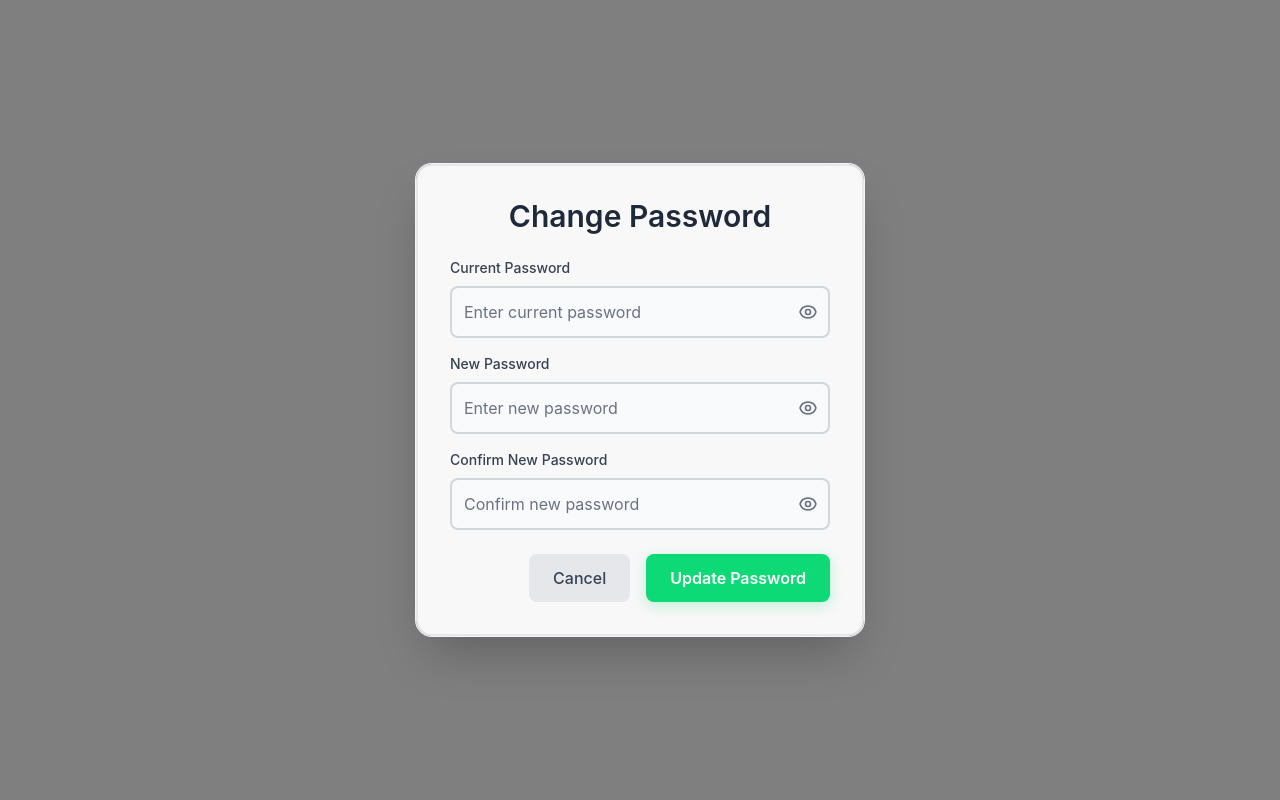
it: ChangePasswordModal › Form Validation › should show error when passwords do not match
Type "currentPass123" into the password field labelled "Current Password". click: [640, 312]
box: [450,286,830,338]
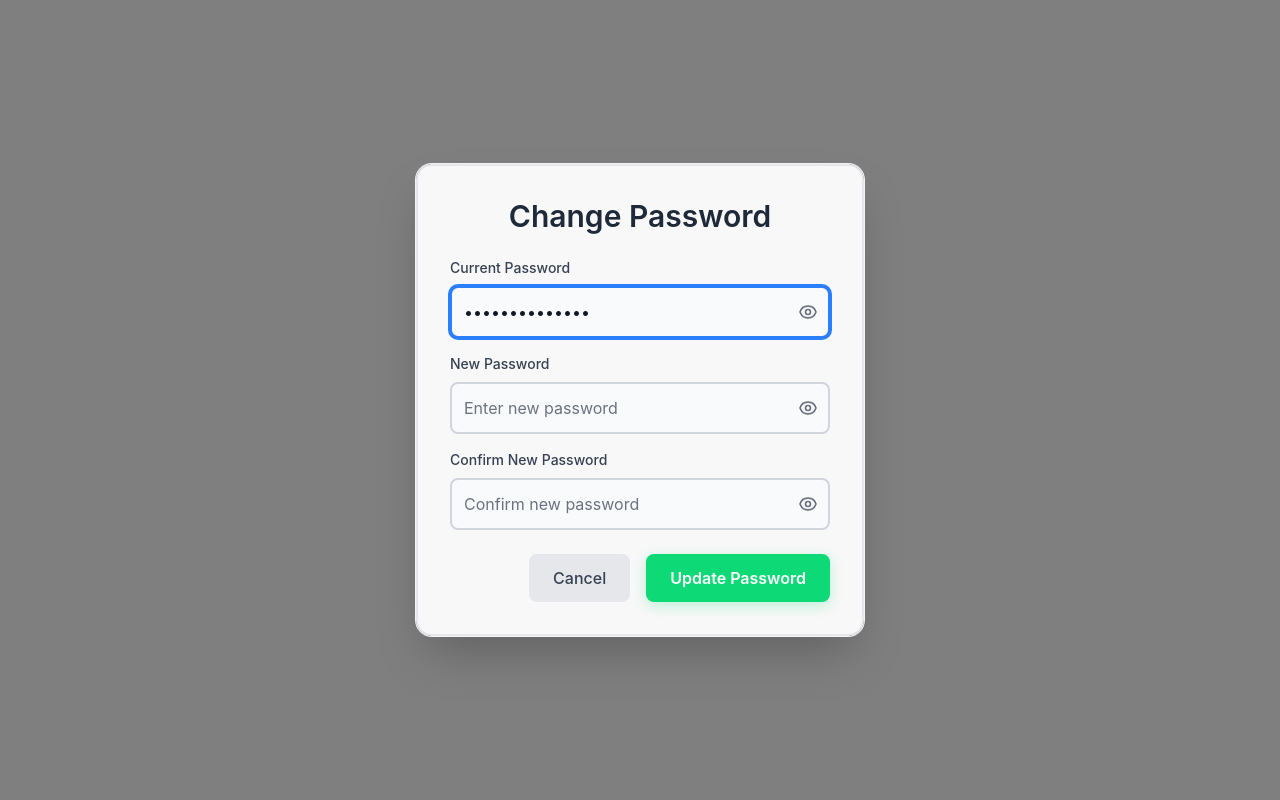
Type "newPassword123" into the password field labelled "New Password". click: [640, 408]
box: [450,382,830,434]
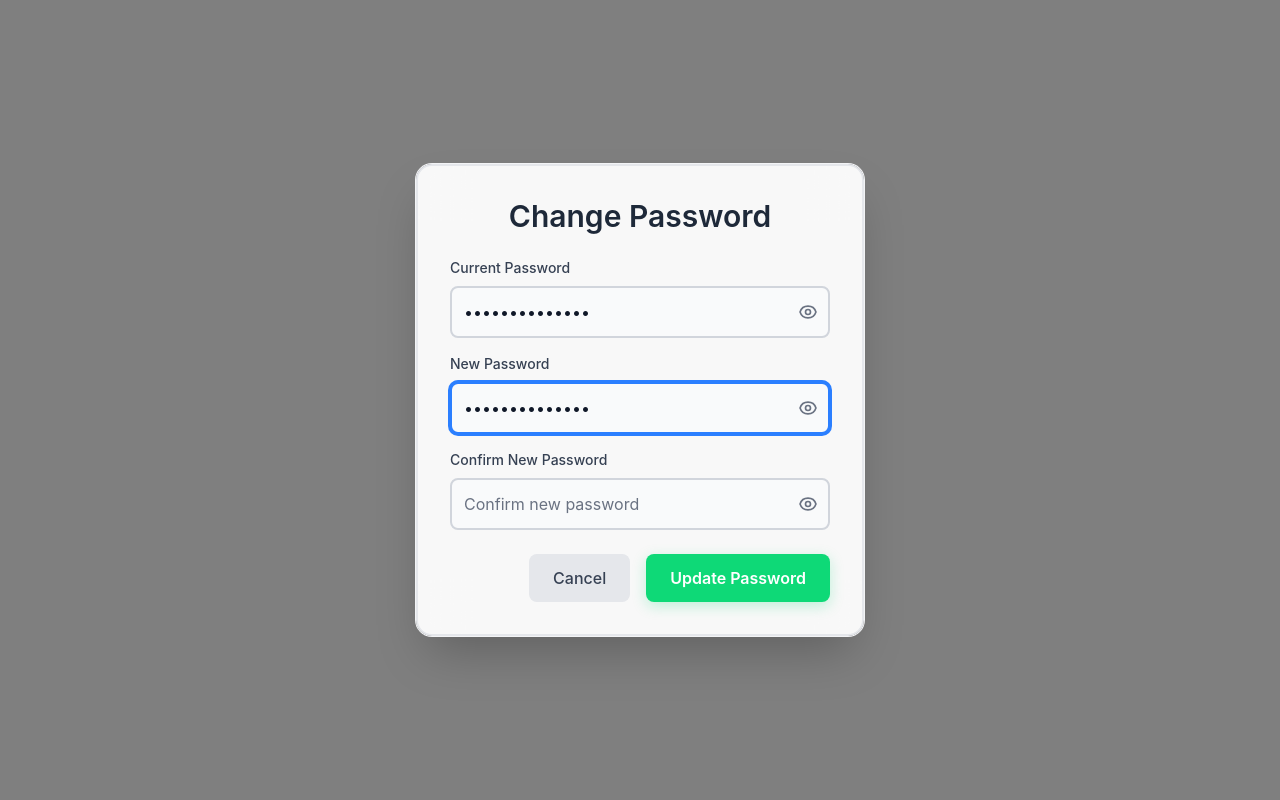
Type "differentPassword123" into the password field labelled "Confirm New Password". click: [640, 504]
box: [450,478,830,530]
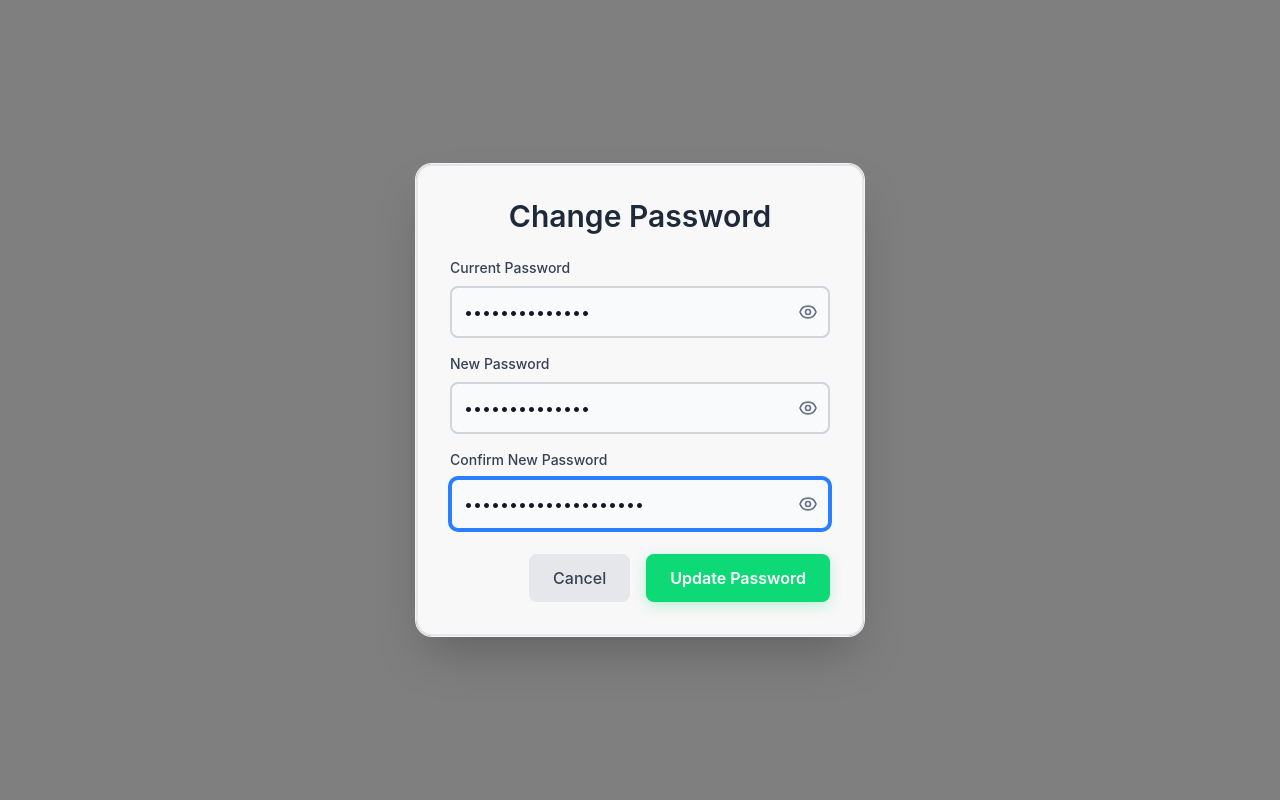
Click the button "Update Password". click: [738, 578]
box: [646,554,830,602]
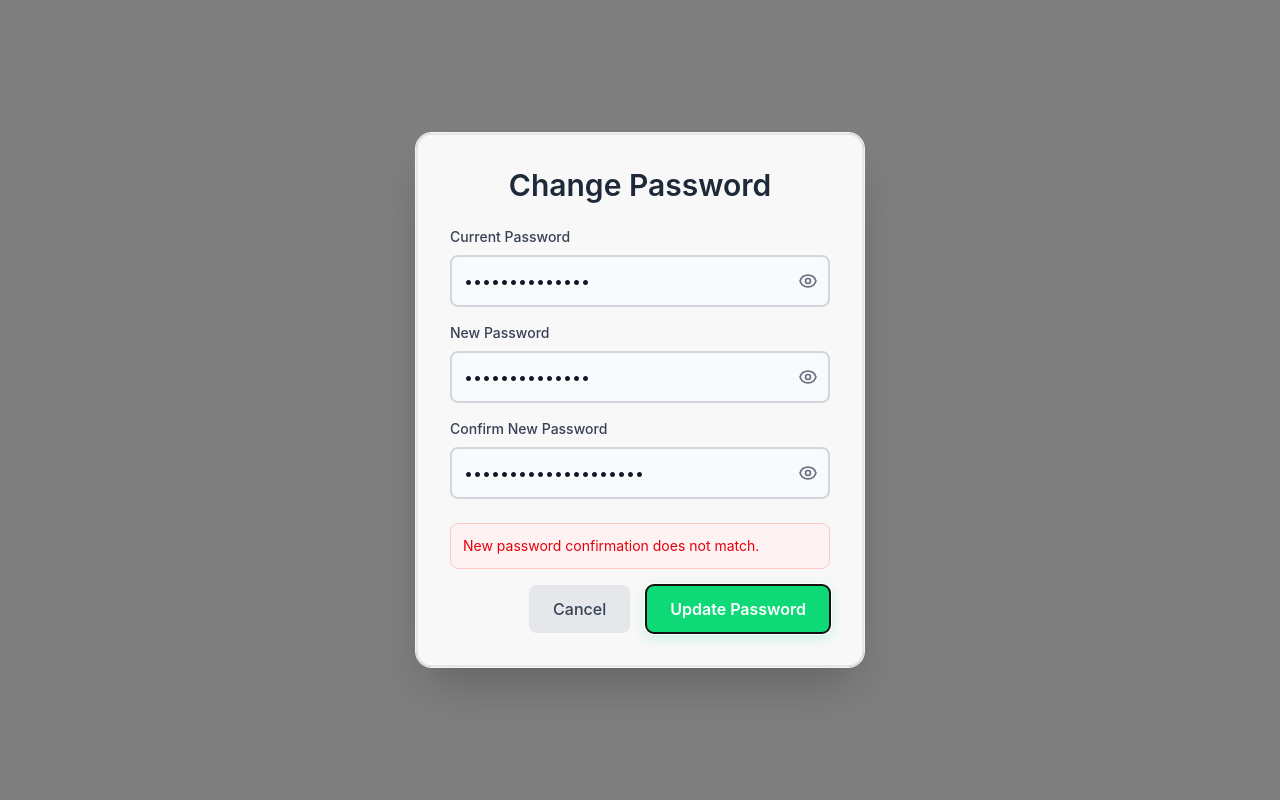
Now the text "New password confirmation does not match." is shown, box [463,537,759,554]
